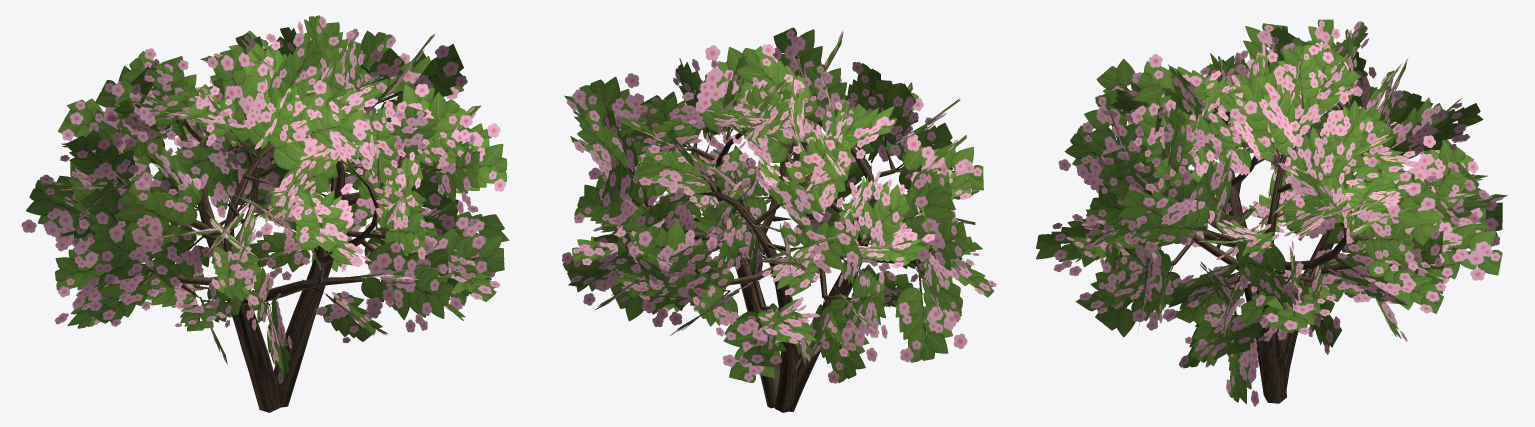
Rendered from bush-blossom.glb.
3 renders of one model, left to right at view 1: azimuth 30°, elevation 25°; view 2: azimuth 150°, elevation 25°; view 3: azimuth 270°, elevation 25°, orthographic. The views are drawn at different scales.
Parts seen in each view (by area): view 1: Bush_Blossom; view 2: Bush_Blossom; view 3: Bush_Blossom.
Part boxes in pixels (left/top/right/bottom): Bush_Blossom: left=21, top=15, right=509, bottom=412; Bush_Blossom: left=562, top=27, right=996, bottom=412; Bush_Blossom: left=1036, top=19, right=1507, bottom=406.
Size of the model in its own units: 2.34 by 2.03 by 2.38.
Materials: 2 (2 with a texture image).
